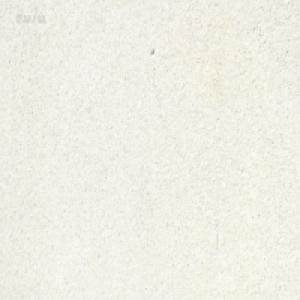Wrench: (192, 0, 199, 5)
